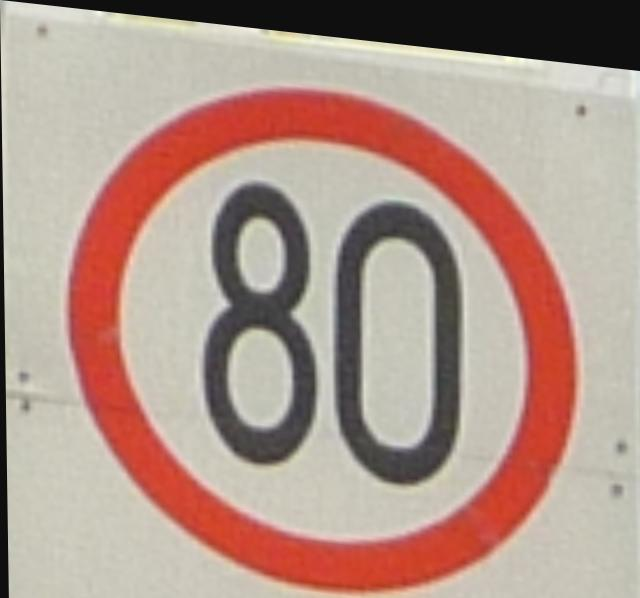limit80: (48, 49, 588, 598)
